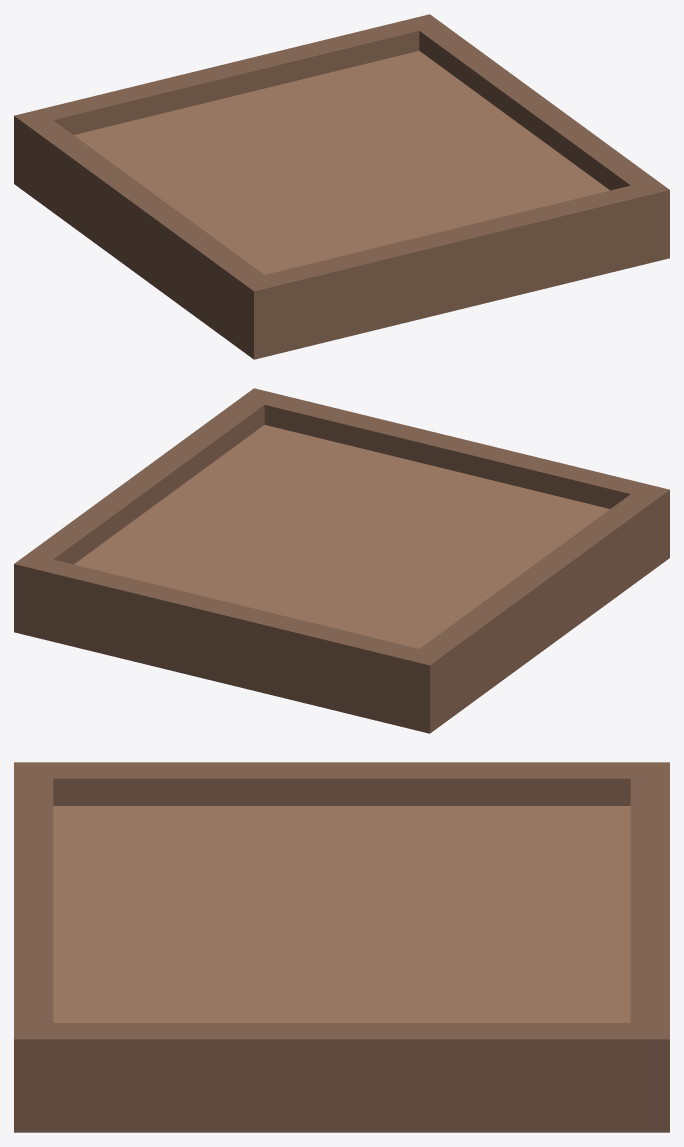
Rendered from beet.glb.
3 renders of one model, top to bottom at view 1: azimuth 30°, elevation 25°; view 2: azimuth 150°, elevation 25°; view 3: azimuth 270°, elevation 25°, orthographic. The views are drawn at different scales.
Visible parts, largest first — view 1: beet; view 2: beet; view 3: beet.
Boxes of the visible parts, x1=… form: beet: x1=14, y1=14, x2=669, y2=359; beet: x1=14, y1=388, x2=669, y2=733; beet: x1=14, y1=762, x2=669, y2=1132.
Size of the model in its own units: 28.08 by 4.41 by 28.08.
